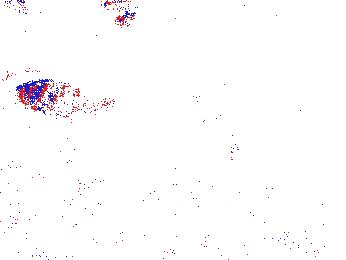X-ray fish: (21, 76, 90, 115)
red belly glassfish: (99, 1, 142, 13), (115, 9, 136, 27)
redtail glassfish: (1, 1, 32, 18)
